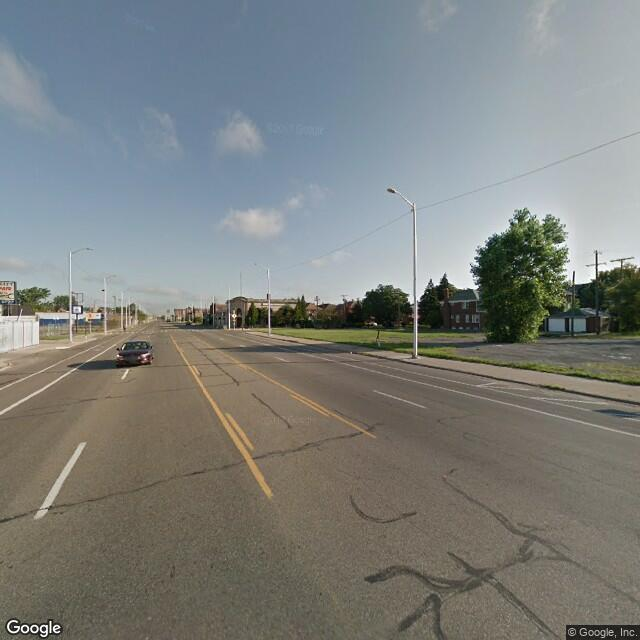litter: (349, 348, 352, 353)
